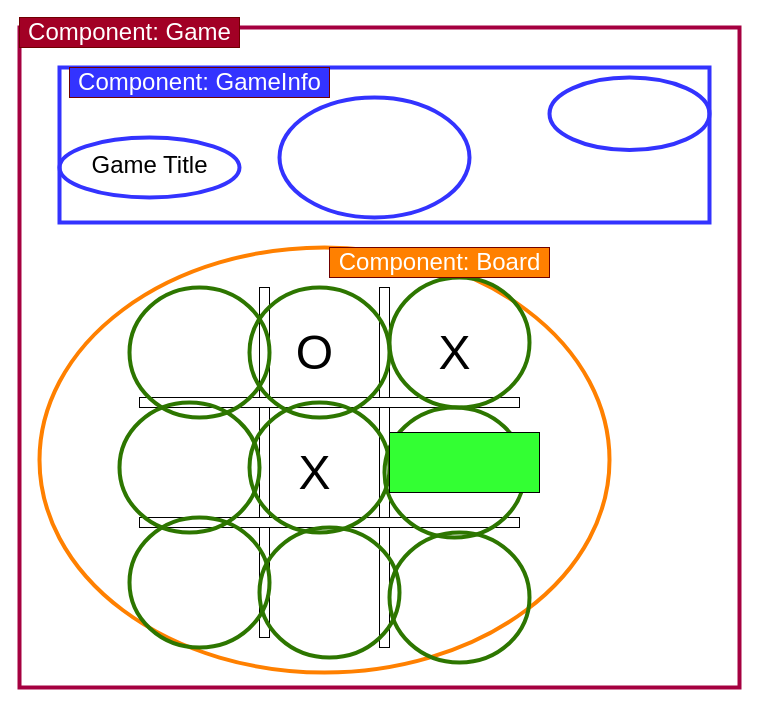
Some shapes in this 758 by 707 pixel diagram are drawn without their labels. The box of each missing label's shape, as (x1, y1, x2, y2) in pixels:
Component: Square: (388, 432, 540, 492)
Play Again Button: (547, 75, 711, 152)
Player Turn: X OR Winner: X: (277, 95, 471, 219)
